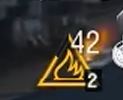2fire: (31, 56, 104, 91)
